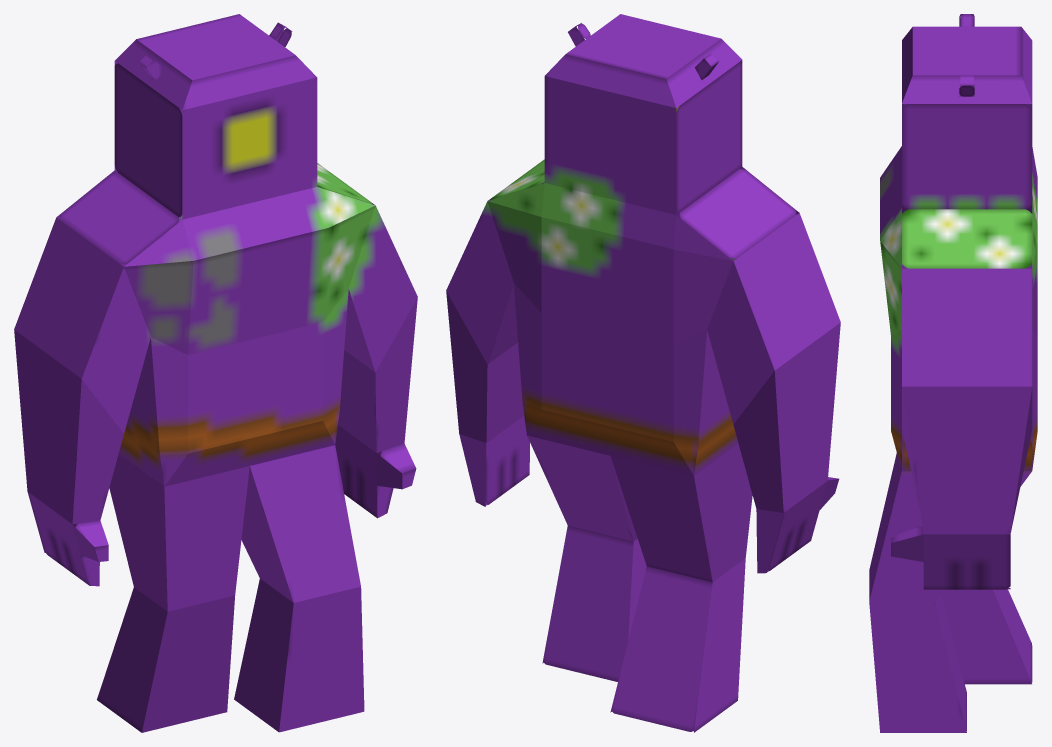
File: golem-grotto.obj
3 renders of one model, left to right at view 1: azimuth 30°, elevation 25°; view 2: azimuth 150°, elevation 25°; view 3: azimuth 270°, elevation 25°, orthographic. The views are drawn at different scales.
Parts seen in each view (by area): view 1: beveled_cuboid; view 2: beveled_cuboid; view 3: beveled_cuboid.
Part boxes in pixels (box(x1,y1,x2,y2)): beveled_cuboid: box(14, 14, 417, 732); beveled_cuboid: box(446, 14, 840, 732); beveled_cuboid: box(869, 14, 1037, 732).
Size of the model in its own units: 0.9375 by 1.77 by 0.4219.
Materials: 1 (1 with a texture image).
